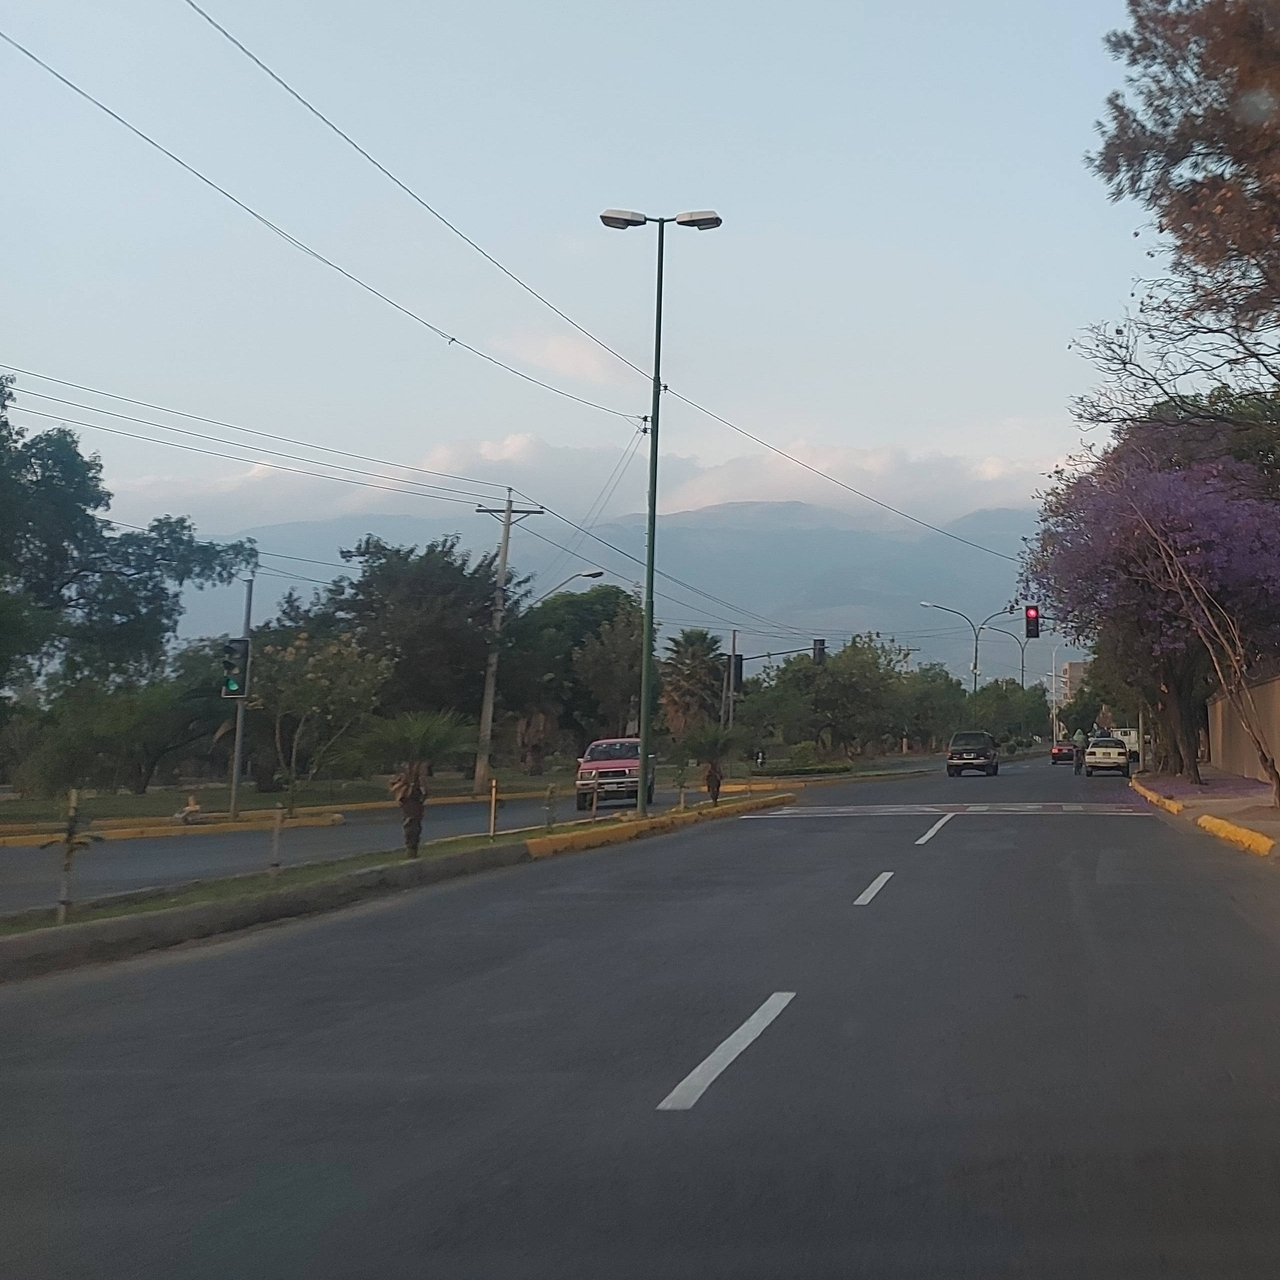pare-horizontal: (743, 799, 1155, 817)
